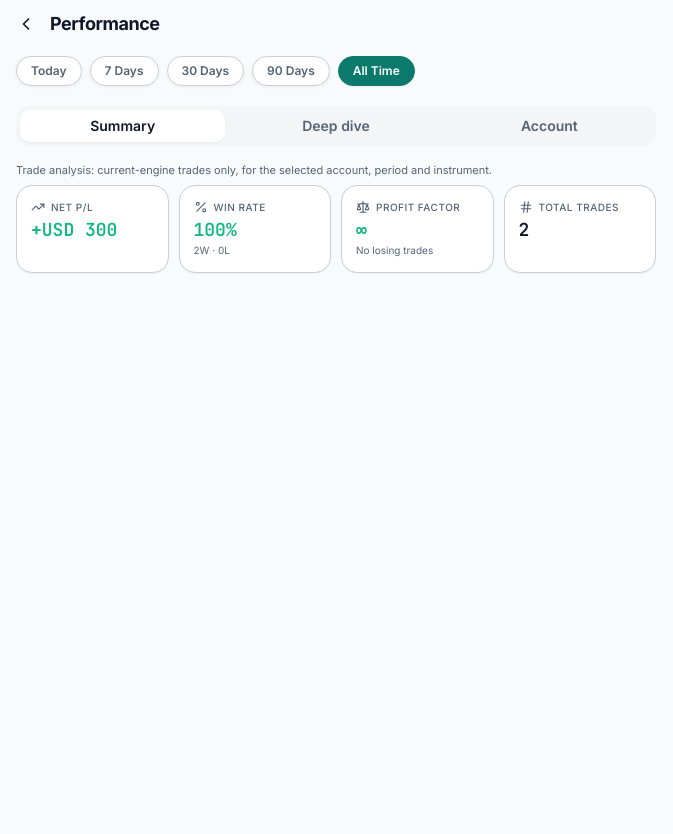
Test: JournalStats — real financial model › shows Net P/L from net_pnl and a real risk-based Avg R, never the bogus planned R:R
Expected: the text "+USD 300" is shown, [31, 218, 117, 240]
Step 1. Click the button "Deep dive" → click(336, 126), box [233, 110, 439, 142]
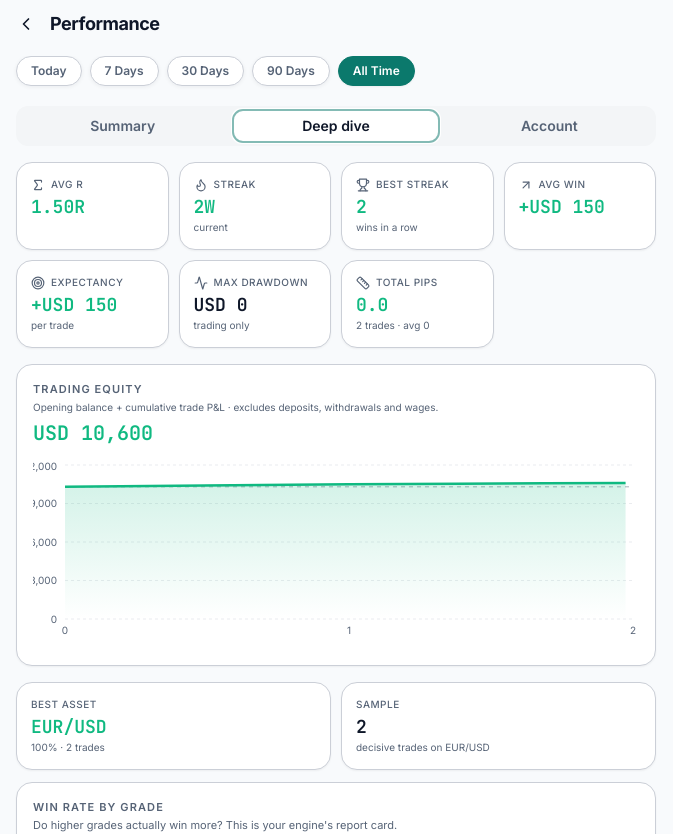
Expected: the text "Avg R" is shown, [51, 177, 83, 192]
